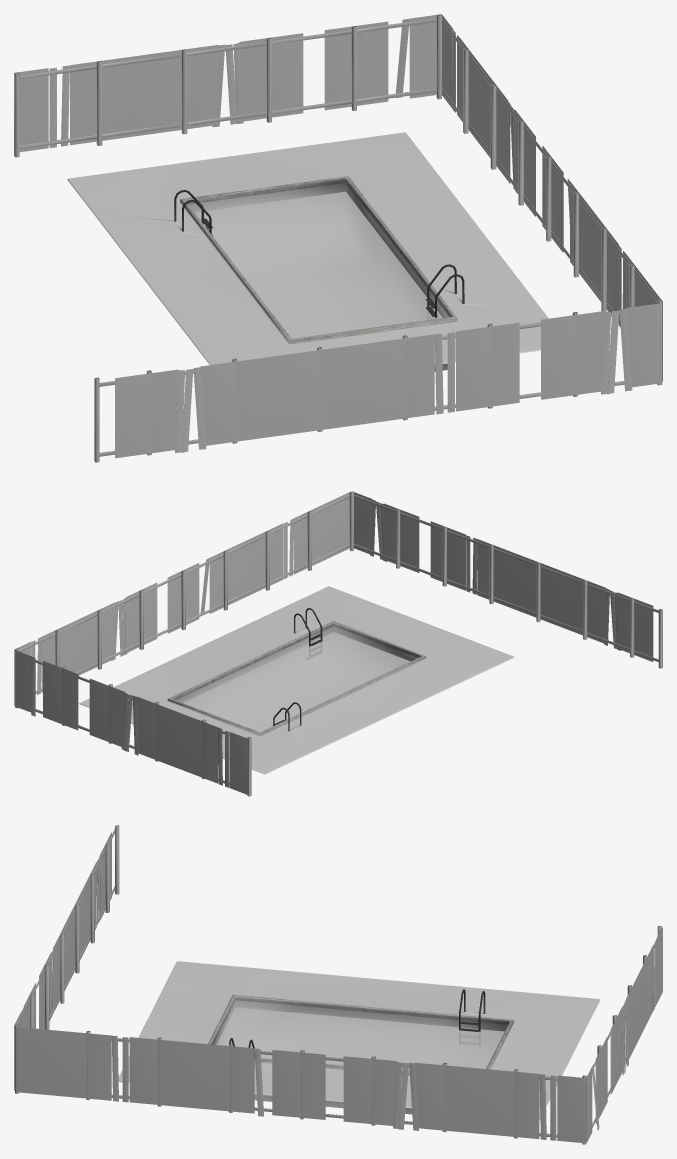
Rendered from pool.fbx.
3 renders of one model, top to bottom at view 1: azimuth 30°, elevation 25°; view 2: azimuth 150°, elevation 25°; view 3: azimuth 270°, elevation 25°, orthographic. The views are drawn at different scales.
Parts seen in each view (by area): view 1: Mesh; view 2: Mesh; view 3: Mesh.
Boxes of the visible parts, x1,y1,x2,y2 form: Mesh: (14,14,662,462); Mesh: (14,491,662,796); Mesh: (14,825,662,1144).
Bounding box in the file's own units: 1658 × 327 × 1801.
